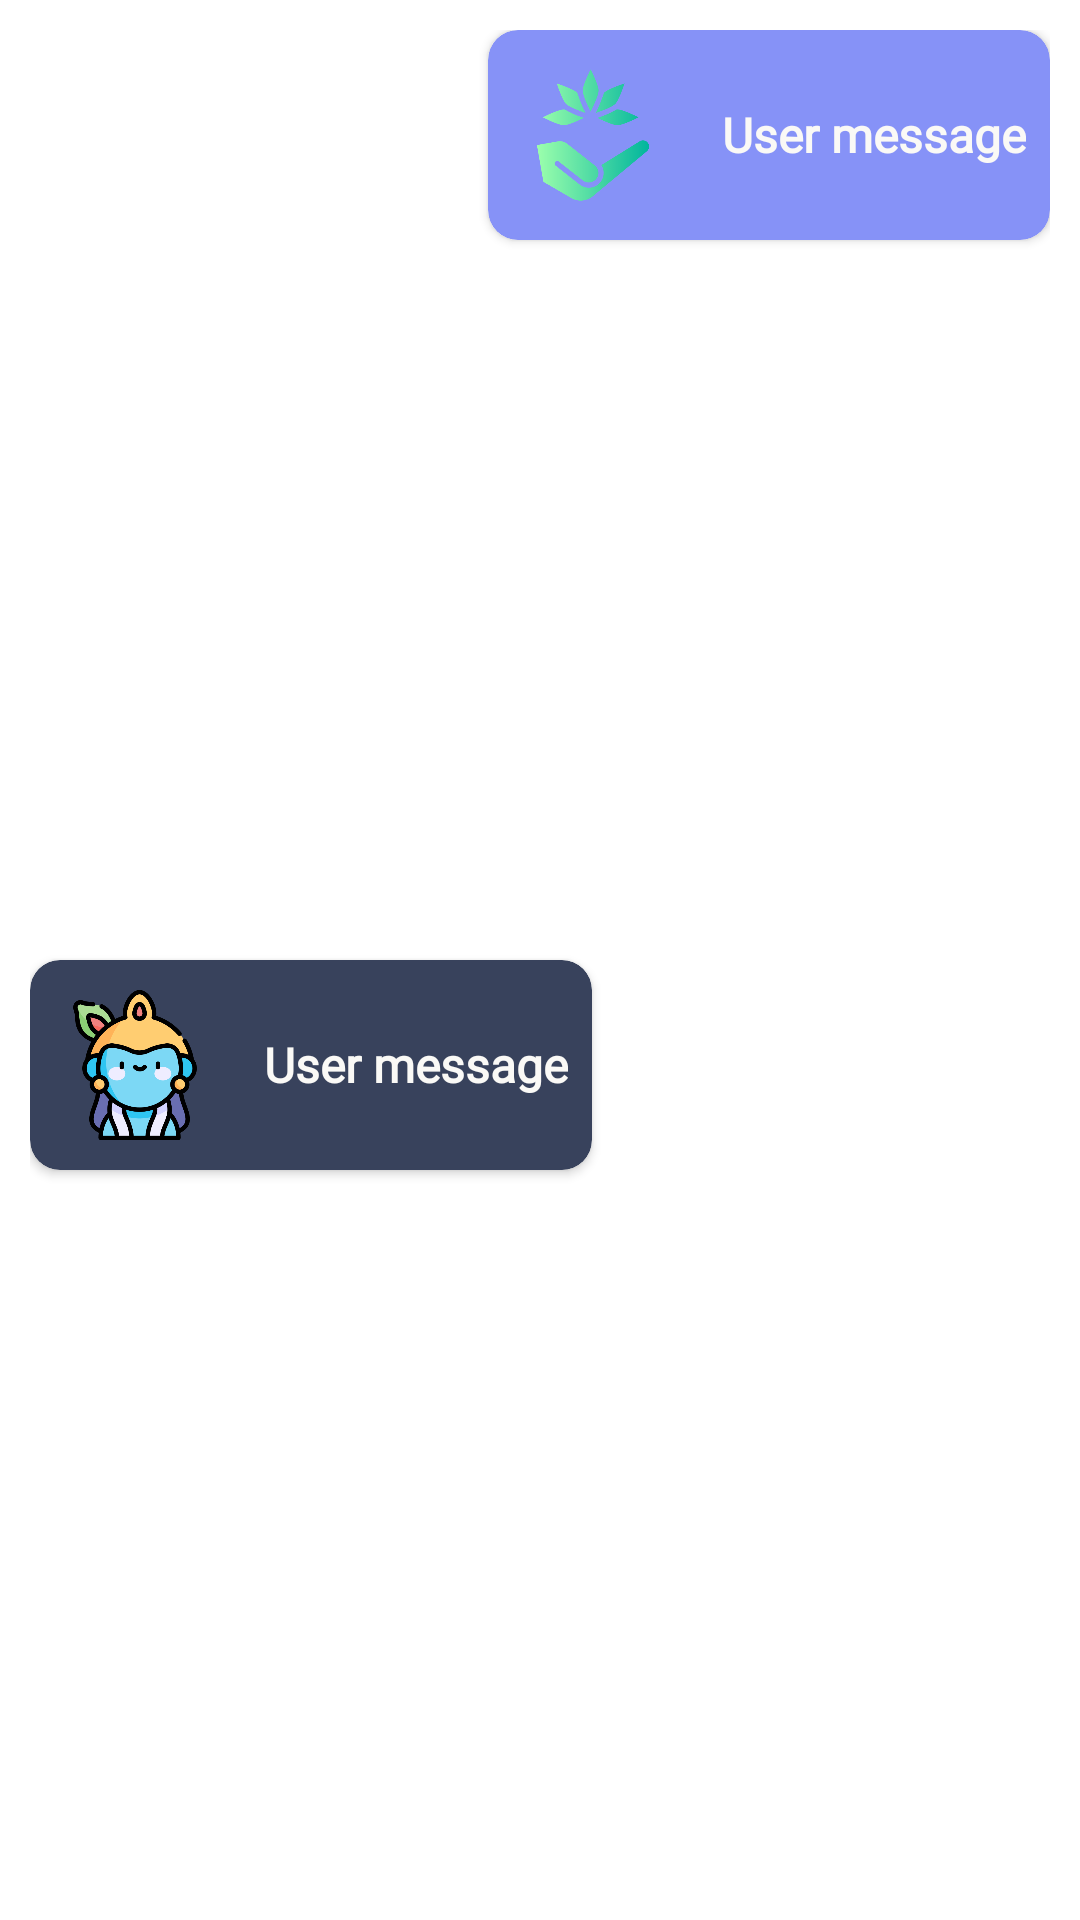

Where icons sit on this 1080px×1920px app screen, as (x1, y1, x2, y2):
krishna: (73, 990, 197, 1140)
